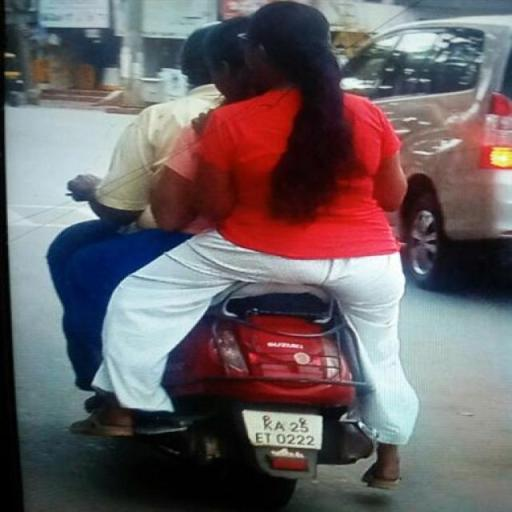tripple riding: (22, 0, 422, 228)
